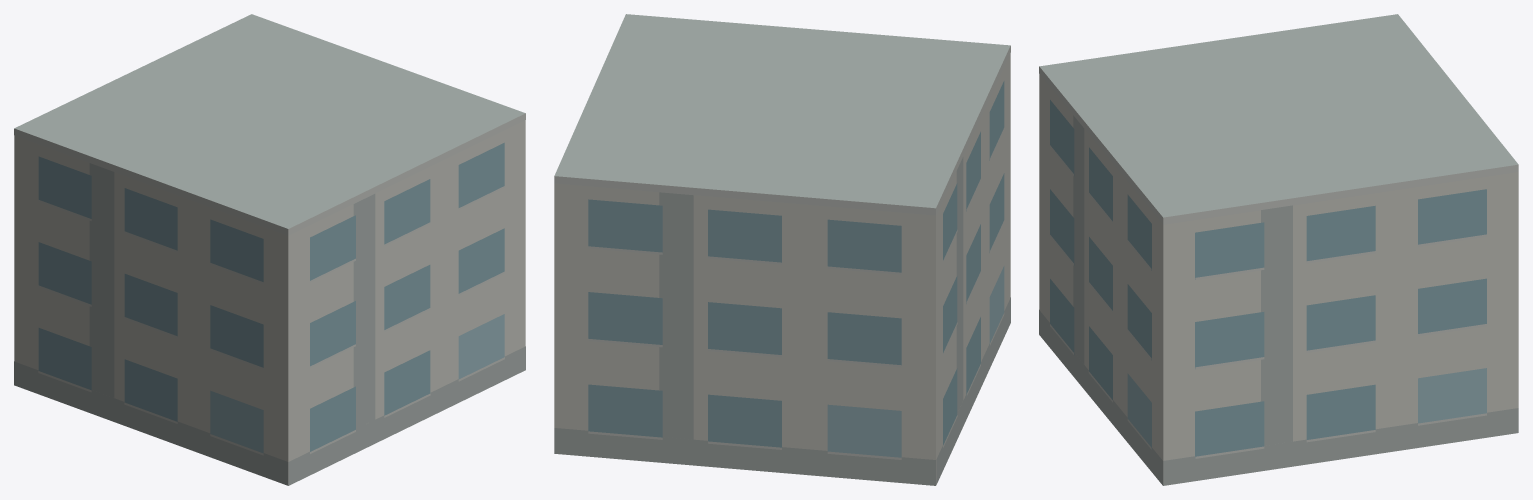
The model's file is survey-upis-32538147.glb.
3 views of the same model, side by side, from view 1: azimuth 30°, elevation 25°; view 2: azimuth 150°, elevation 25°; view 3: azimuth 270°, elevation 25° (orthographic). The views are drawn at different scales.
Visible parts, largest first — view 1: survey-upis-32538147.tmp; view 2: survey-upis-32538147.tmp; view 3: survey-upis-32538147.tmp.
Boxes of the visible parts, x1,y1,x2,y2 form: survey-upis-32538147.tmp: [14, 14, 525, 485]; survey-upis-32538147.tmp: [554, 14, 1010, 485]; survey-upis-32538147.tmp: [1039, 14, 1518, 485].
Bounding box in the file's own units: 14.9 × 9.15 × 14.83.
